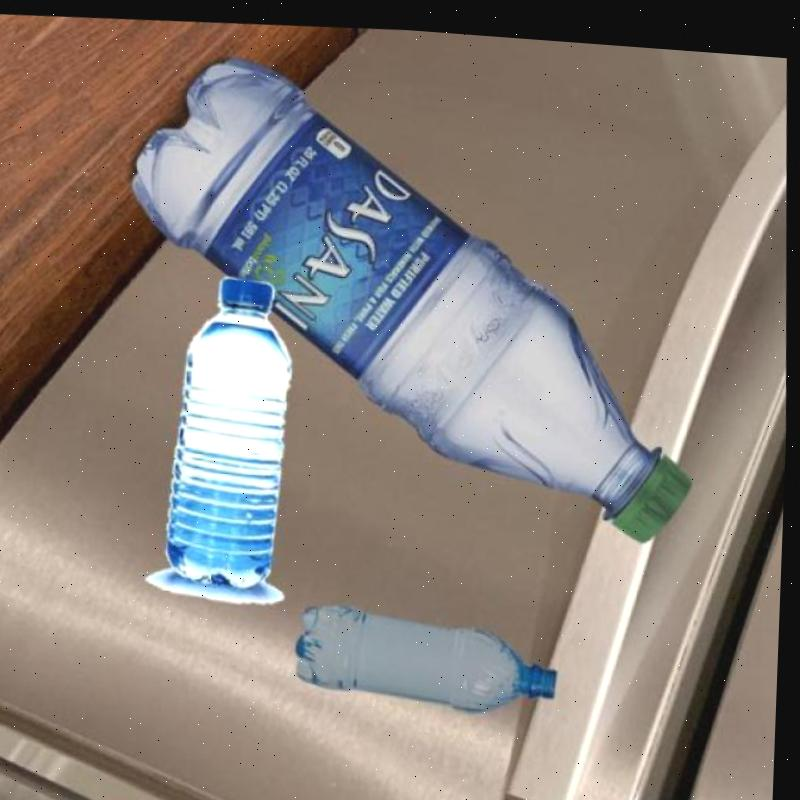botella: (114, 29, 706, 555), (152, 268, 304, 589), (297, 588, 564, 716)
